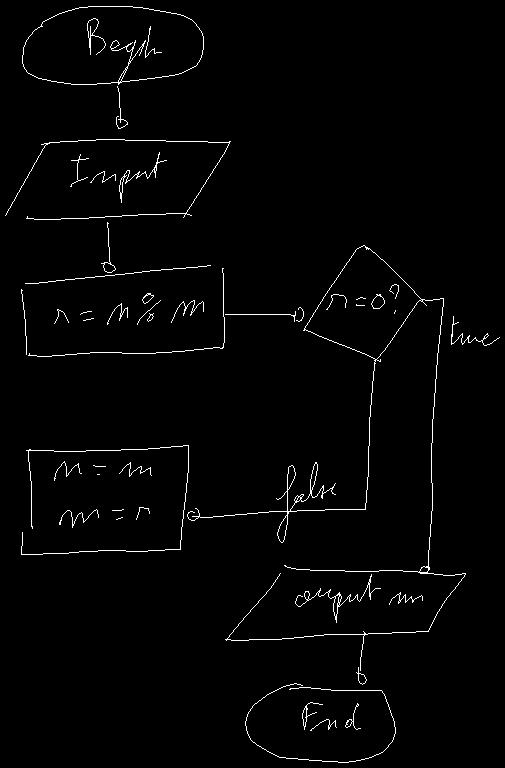arrow: (187, 362, 375, 520), (419, 298, 443, 573), (225, 307, 303, 321), (101, 222, 115, 272), (356, 631, 366, 684), (116, 86, 127, 128)
data: (5, 139, 230, 219), (225, 565, 465, 640)
decision: (303, 245, 426, 361)
process: (21, 265, 224, 356), (21, 445, 188, 554)
terminator: (22, 6, 203, 84), (245, 683, 395, 762)
text: (54, 461, 151, 527), (295, 574, 422, 622), (87, 18, 161, 84), (70, 152, 166, 202), (276, 462, 335, 542), (54, 293, 203, 324), (326, 284, 398, 313), (302, 702, 360, 730), (451, 316, 499, 345)
